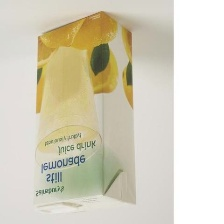carton: (25, 8, 140, 222)
